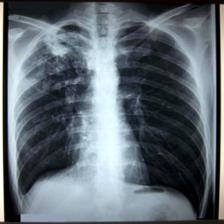tuberculosis: (7, 12, 212, 221)
